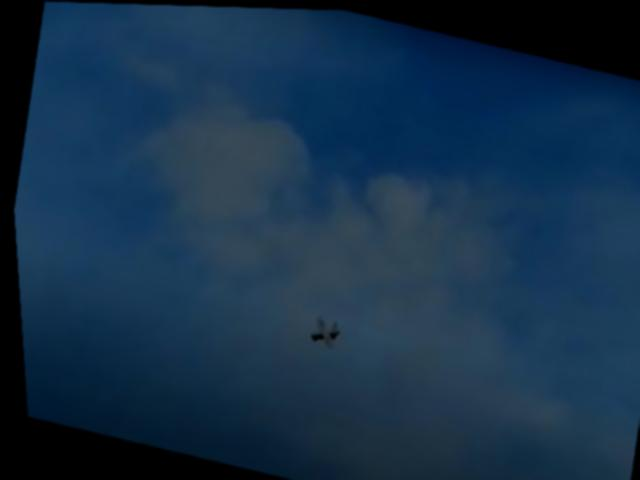uav: (301, 307, 337, 349)
